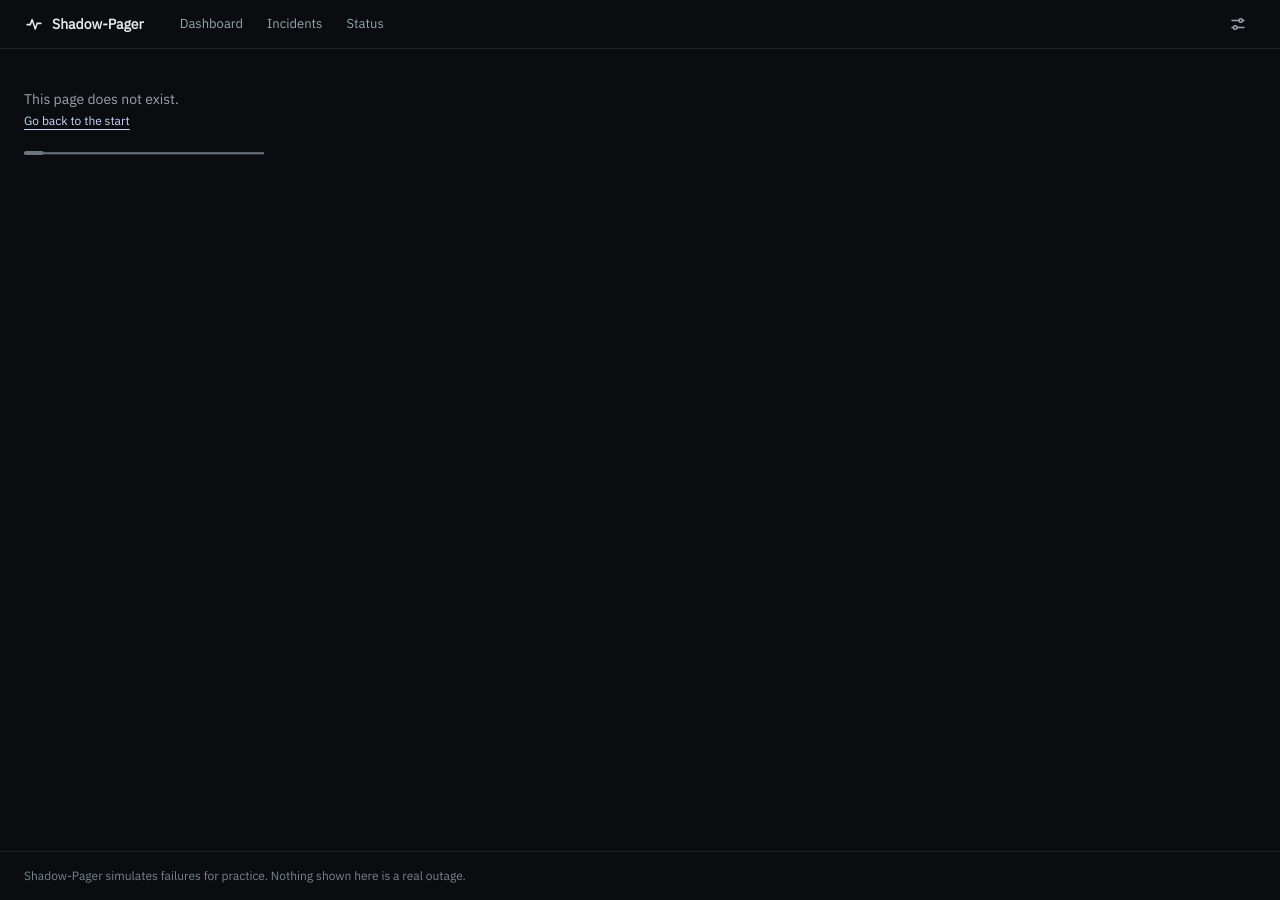
Test: settings in the header › closes with the Escape key and gives the focus back to the button
This screenshot has width=1280, height=900.
Click the button named "Settings" at (1238, 24), box top-left (1220, 6), bottom-right (1256, 42)
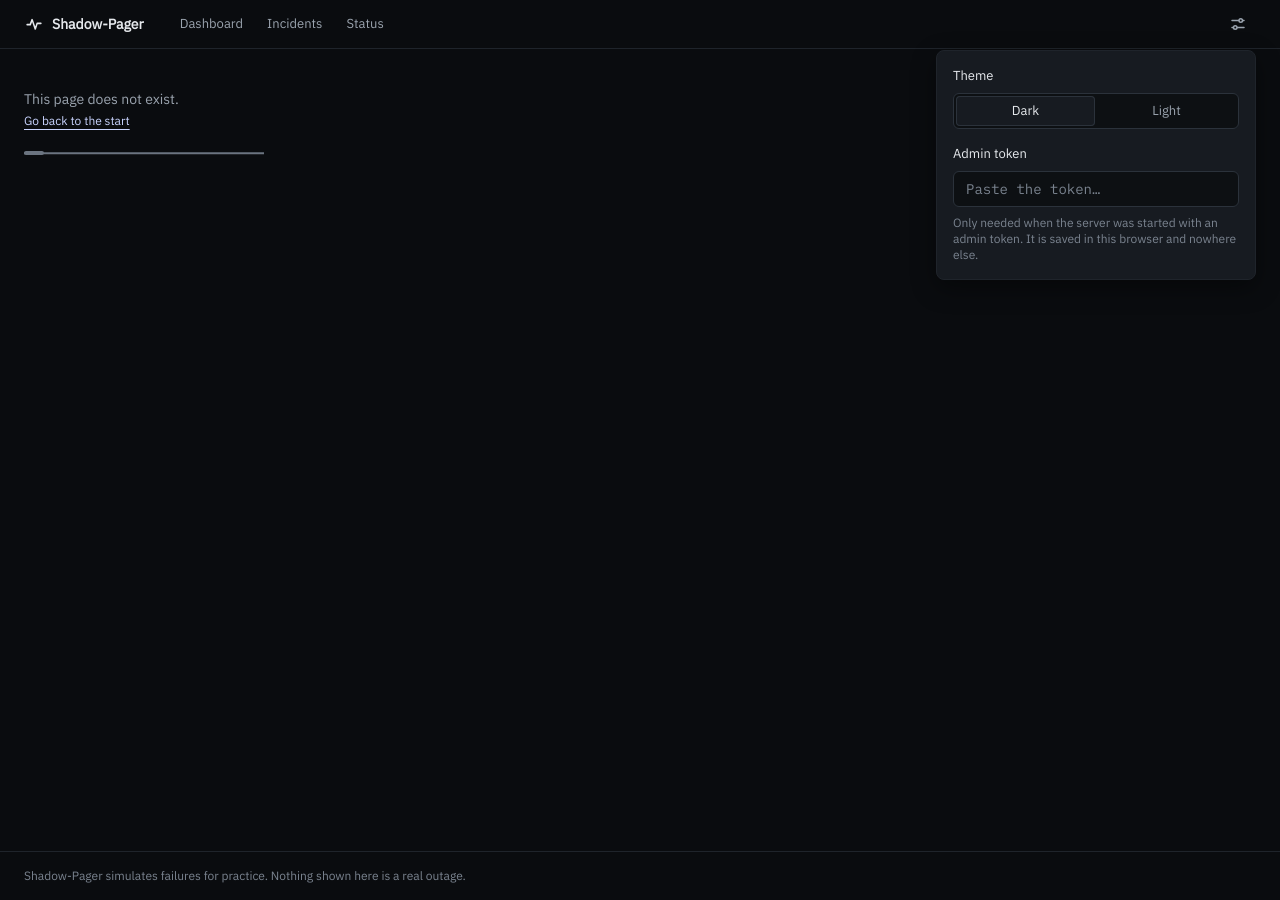
Press Escape
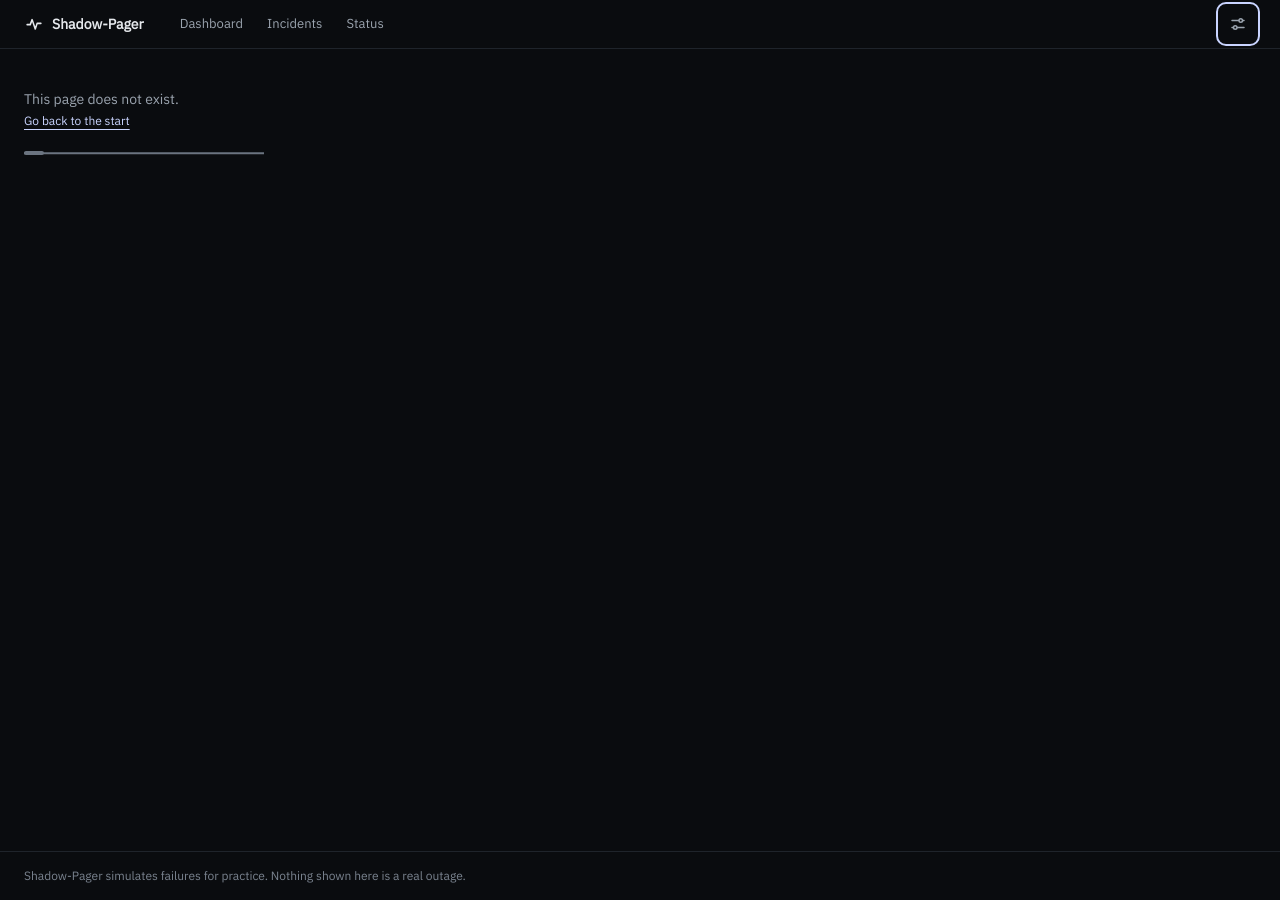
Check: the dialog is gone
